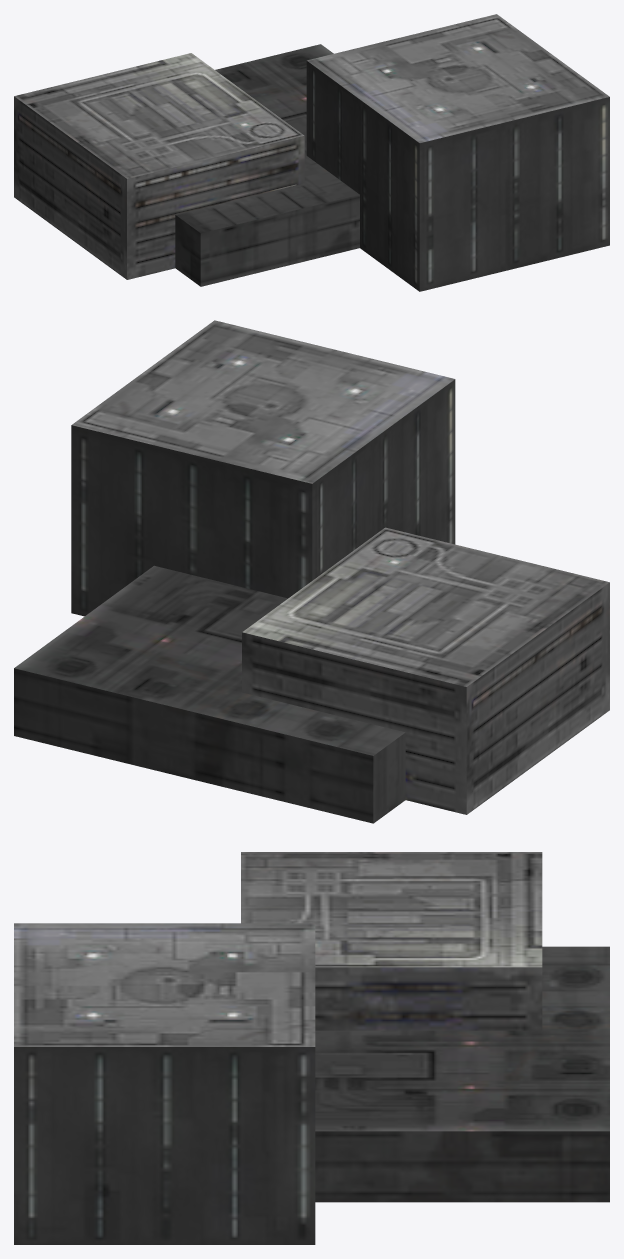
Rendered from scifi_building_37.obj.
3 views of the same model, one above another, from view 1: azimuth 30°, elevation 25°; view 2: azimuth 150°, elevation 25°; view 3: azimuth 270°, elevation 25° (orthographic). The views are drawn at different scales.
Parts seen in each view (by area): view 1: building_37; view 2: building_37; view 3: building_37.
Boxes of the visible parts, x1,y1,x2,y2 form: building_37: (14,14,609,291); building_37: (14,320,609,823); building_37: (14,852,609,1244).
Bounding box in the file's own units: 80.63 × 28.8 × 78.62.
Materials: 1 (1 with a texture image).
